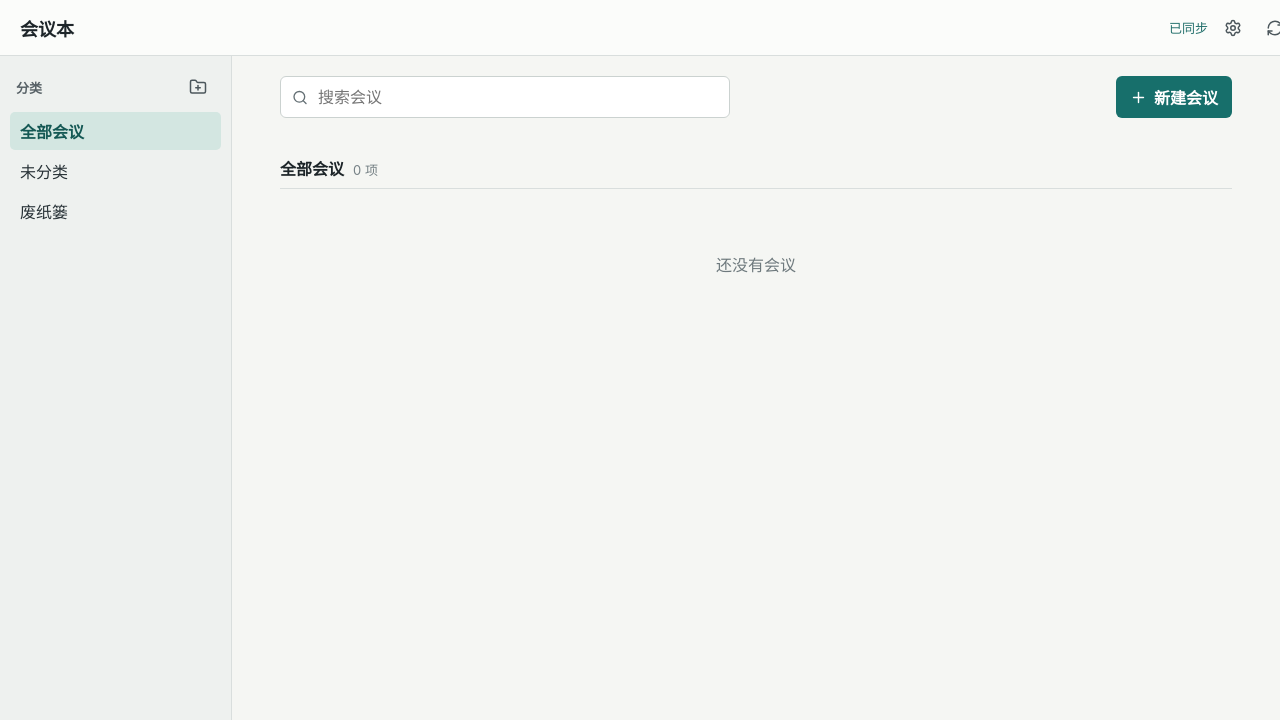
Test: MeetingListPage › reports a rejected automatic sync as locally saved and clears it after automatic recovery
The width and height of the screenshot is (1280, 720).
expect the text "已同步" is shown: met, box [1169,18,1208,37]
Click the button named "新建分类".
click(198, 87)  # box [181,70,215,104]
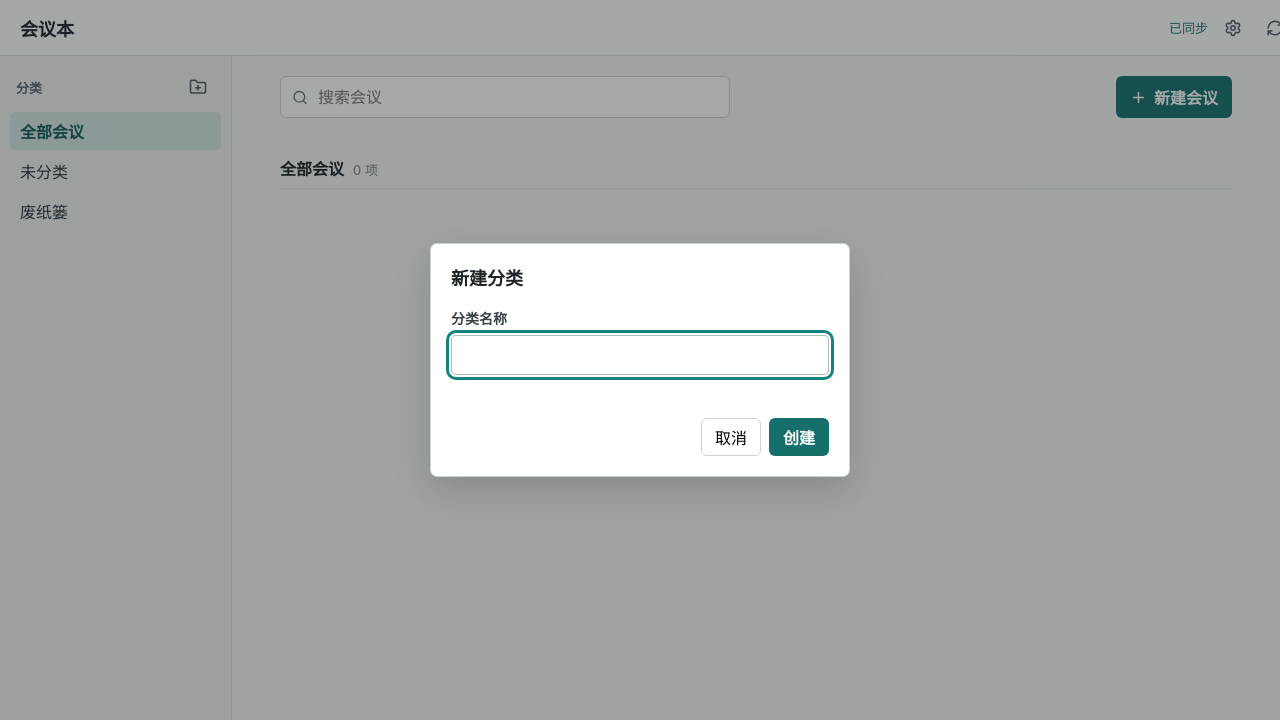
Type "已保存未同步" into the field labelled "分类名称".
click(640, 355); type("已保存未同步")  # box [451,335,829,375]
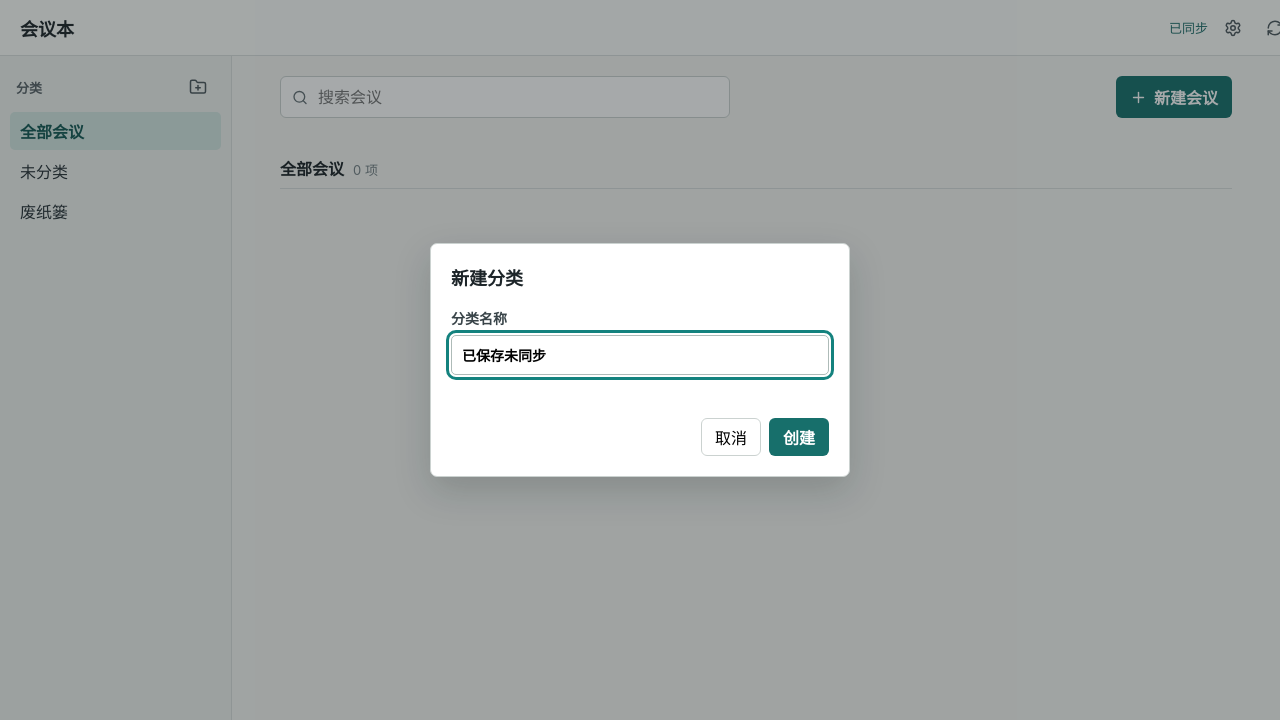
Click the button "创建".
click(799, 437)  # box [769,418,829,456]
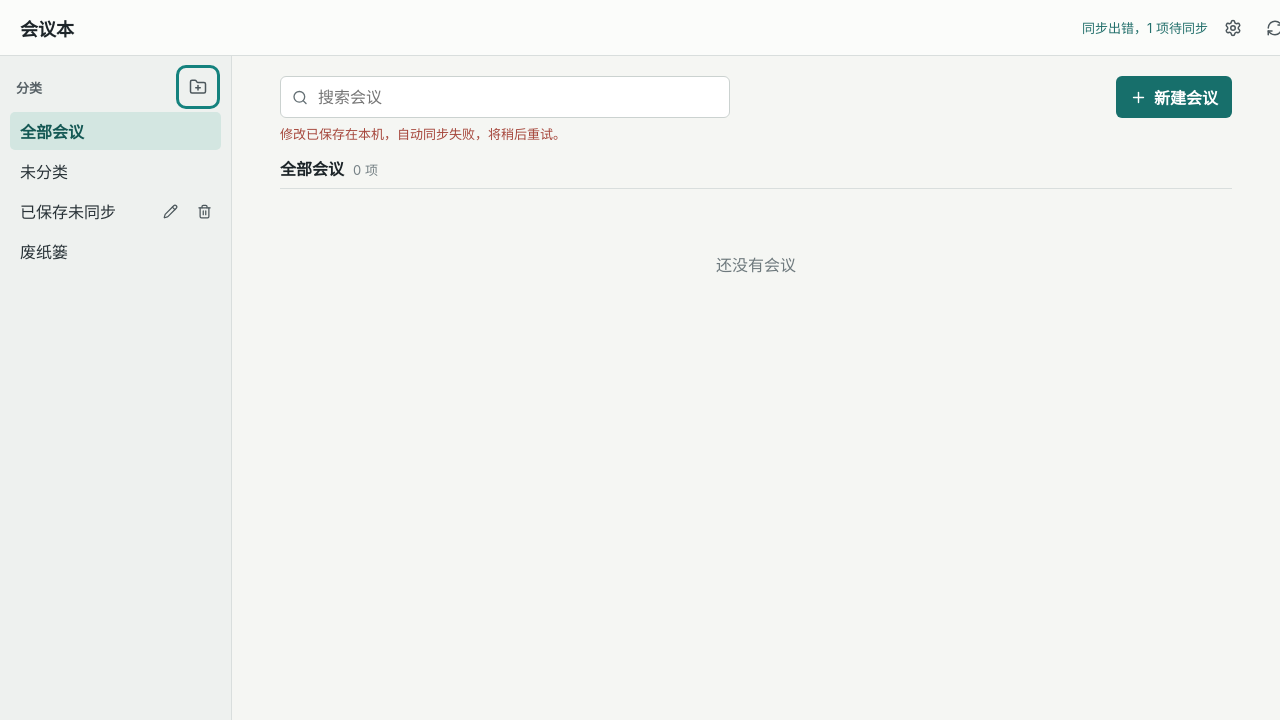
expect the message reads "修改已保存在本机，自动同步失败，将稍后重试。": met, box [280,126,566,142]
Click the button named "新建分类".
click(198, 87)  # box [181,70,215,104]
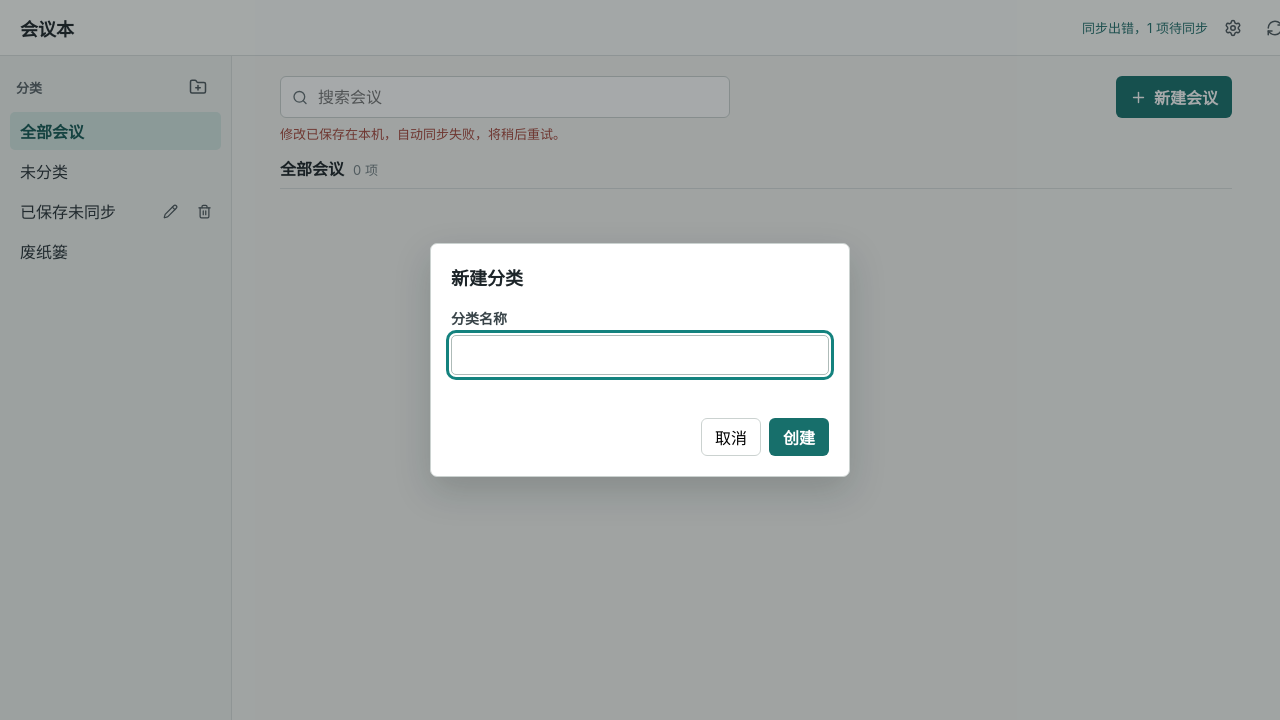
Type "触发自动恢复" into the field labelled "分类名称".
click(640, 355); type("触发自动恢复")  # box [451,335,829,375]
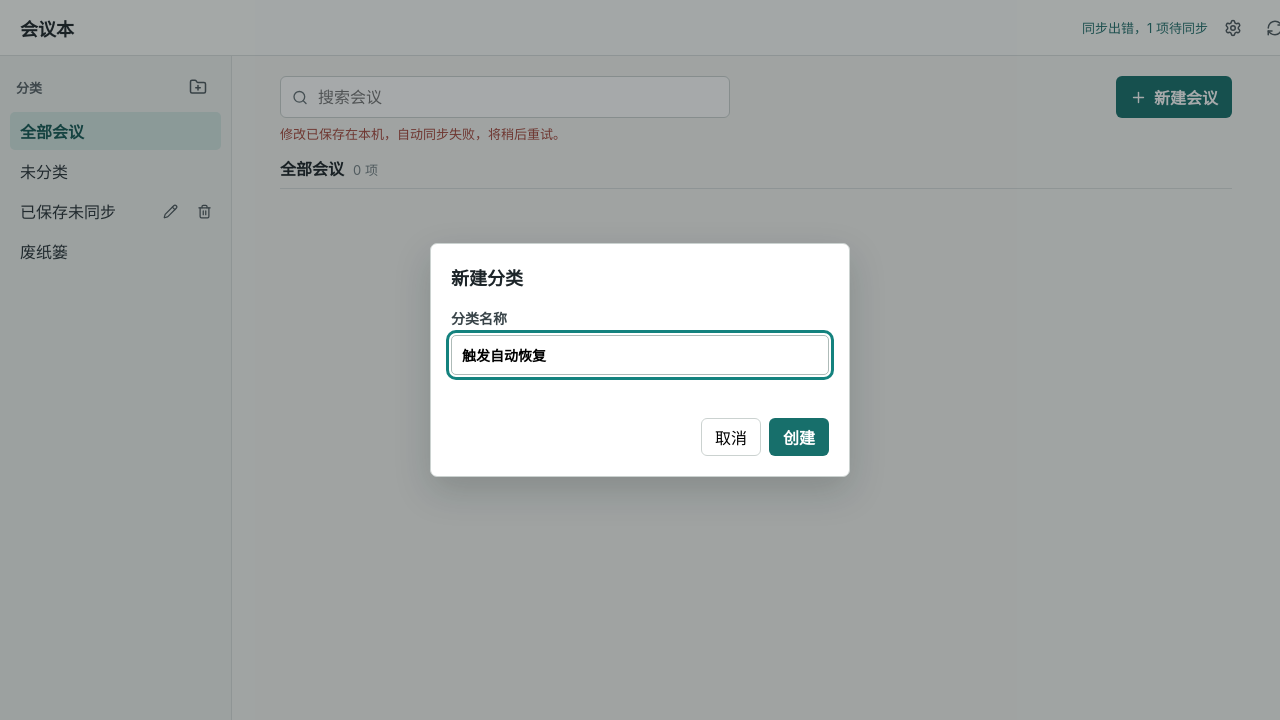
Click the button "创建".
click(799, 437)  # box [769,418,829,456]
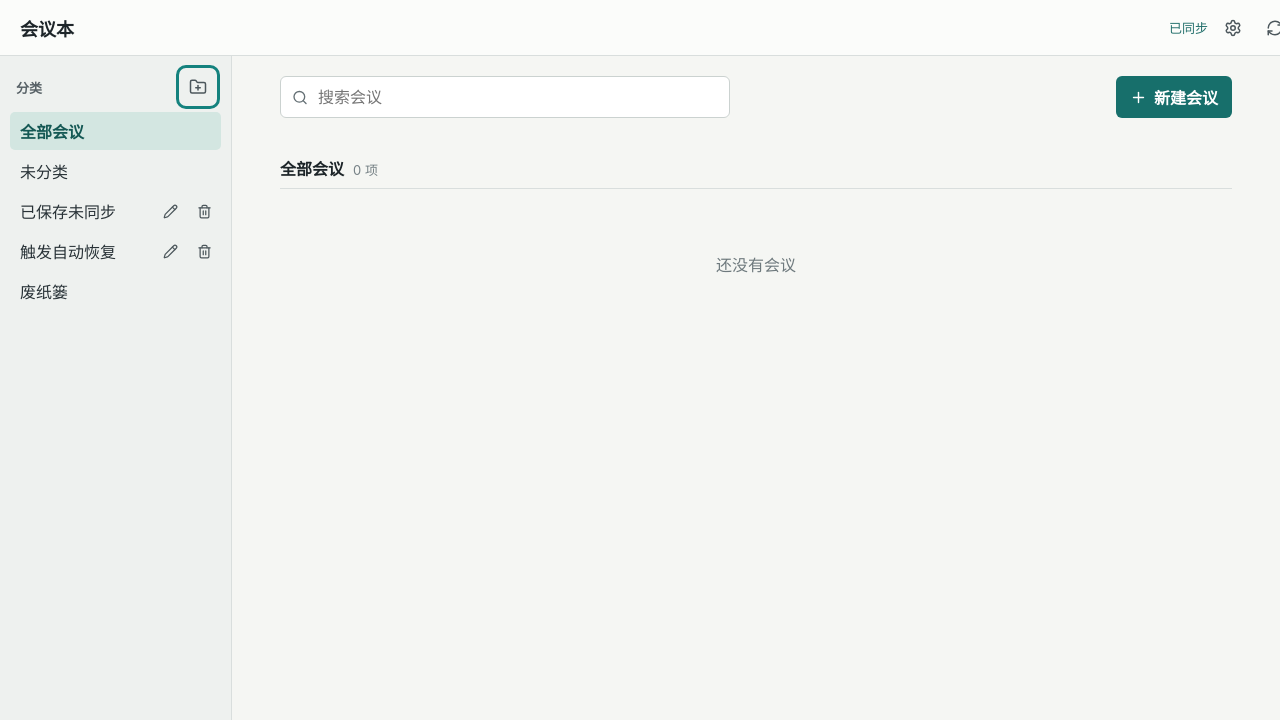
expect the text "已同步" is shown: met, box [1169,18,1208,37]
expect the text "修改已保存在本机，自动同步失败，将稍后重试。" is gone: met
